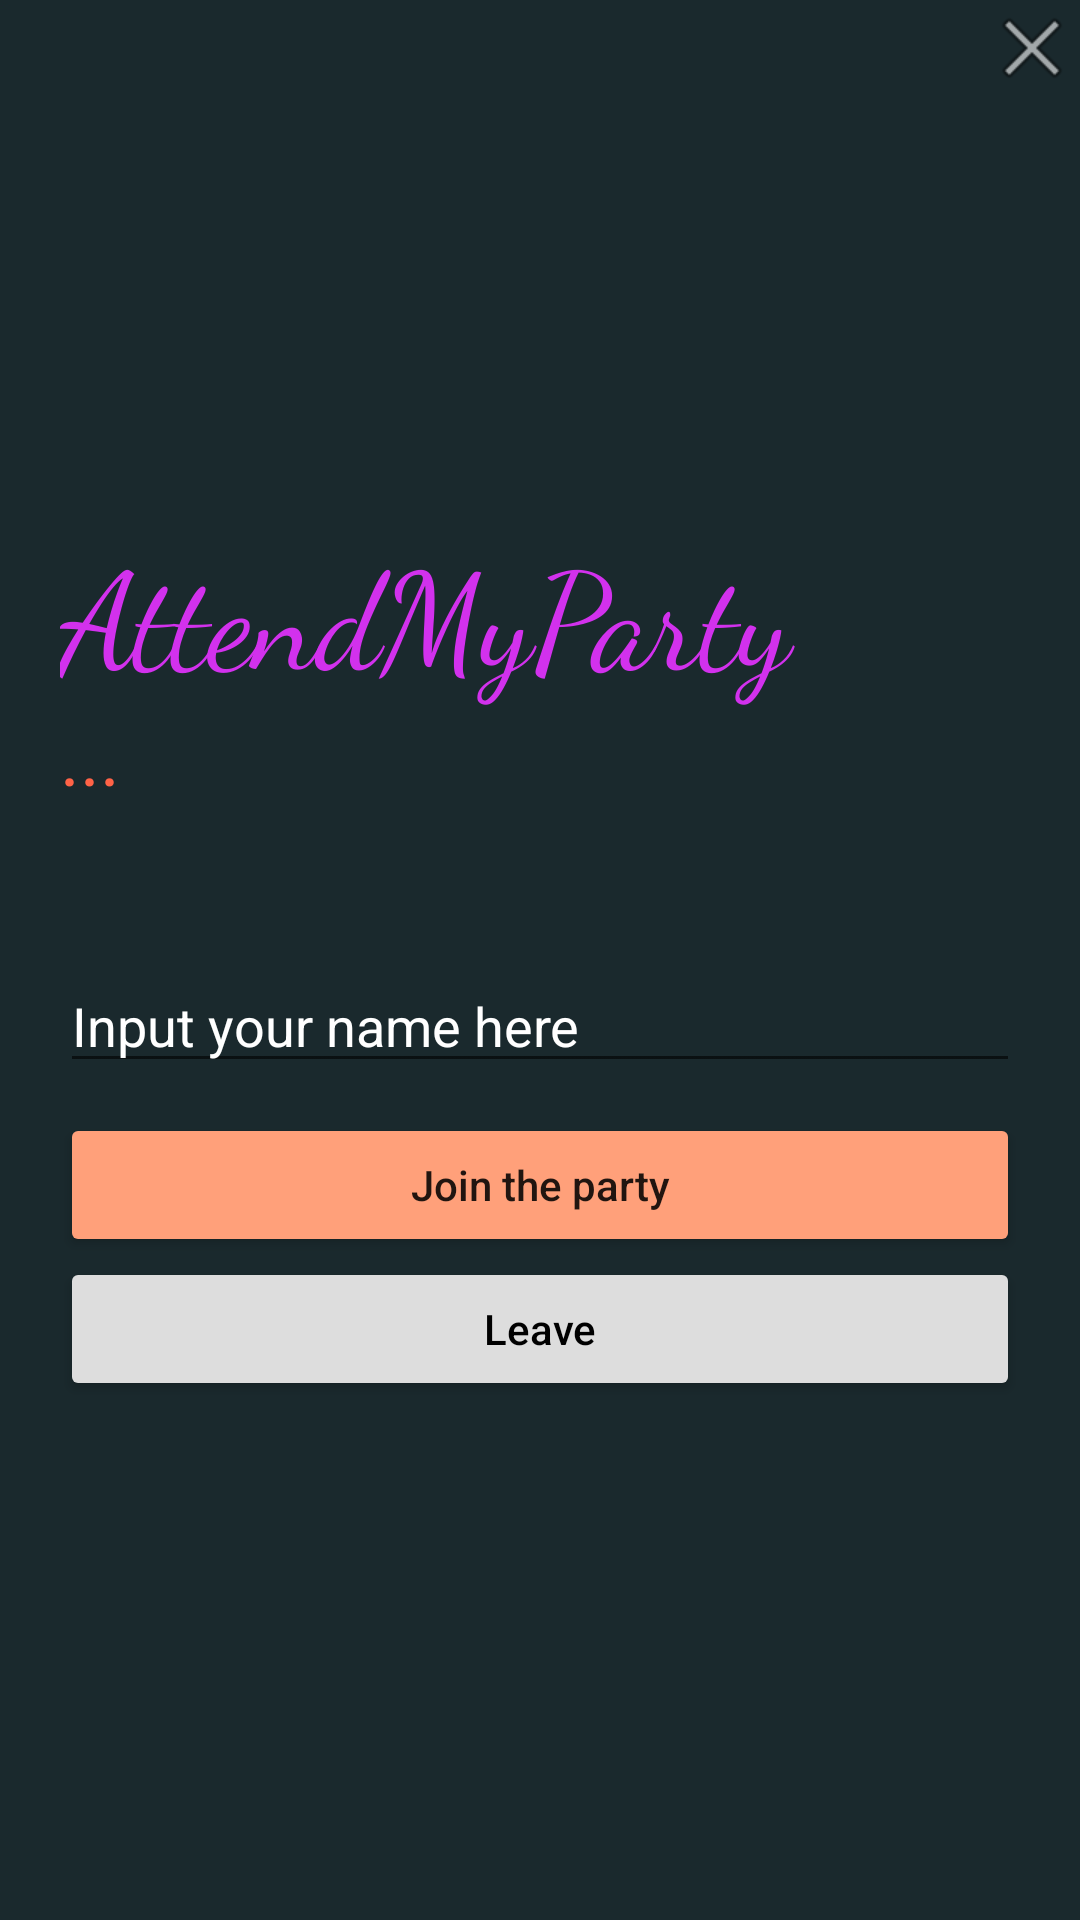

Where icons sit on this 1080x1920 app screen, as (x1, y1, x2, y2):
close clear cancel: (1005, 21, 1059, 75)
